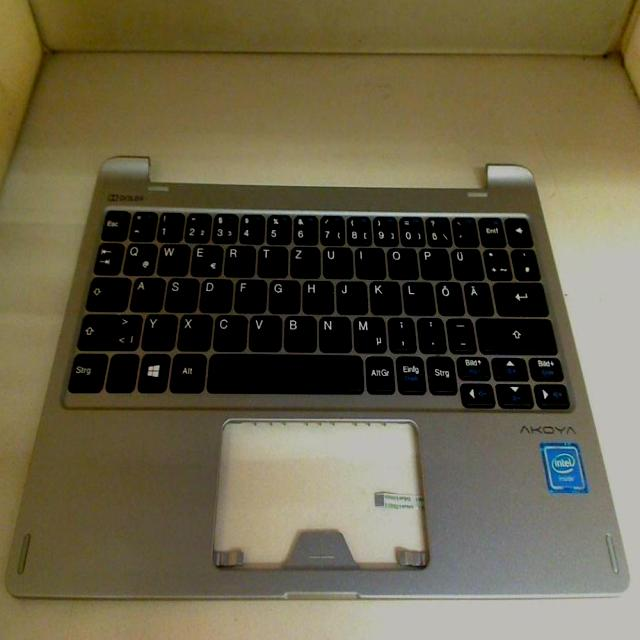0: (397, 214, 423, 244)
1: (156, 210, 182, 240)
2: (183, 209, 209, 241)
3: (211, 211, 236, 241)
4: (238, 212, 263, 242)
5: (265, 212, 290, 242)
6: (292, 213, 317, 243)
7: (319, 213, 343, 243)
8: (345, 213, 370, 243)
9: (371, 213, 396, 243)
a: (128, 274, 162, 308)
accent: (452, 214, 478, 244)
ae: (462, 280, 491, 312)
alt-left: (167, 350, 204, 391)
altgr-right: (363, 352, 393, 391)
b: (282, 313, 316, 349)
c: (211, 312, 246, 349)
caret: (128, 209, 155, 239)
comma: (386, 313, 414, 349)
d: (198, 276, 232, 310)
del: (504, 214, 533, 246)
e: (189, 241, 221, 273)
enter: (493, 279, 549, 313)
f: (233, 276, 265, 310)
g: (267, 277, 299, 311)
h: (301, 277, 333, 311)
hash: (512, 245, 541, 277)
i: (354, 245, 384, 275)
j: (335, 278, 367, 312)
k: (368, 279, 400, 311)
keyboard: (60, 204, 572, 412)
l: (401, 278, 433, 312)
less: (111, 310, 139, 347)
m: (352, 314, 384, 350)
minus: (444, 315, 476, 352)
n: (318, 313, 350, 350)
o: (385, 245, 417, 277)
oe: (434, 278, 462, 312)
p: (418, 245, 450, 277)
plus: (482, 246, 510, 278)
point: (416, 313, 444, 349)
q: (121, 239, 155, 273)
r: (223, 242, 255, 274)
s: (163, 275, 197, 309)
shift-left: (75, 310, 114, 347)
shift-lock: (84, 273, 128, 309)
shift-right: (474, 315, 557, 352)
space: (205, 350, 362, 391)
ss: (425, 214, 450, 244)
strg-left: (64, 349, 105, 391)
strg-right: (425, 353, 455, 392)
t: (257, 243, 287, 275)
tab: (92, 240, 120, 272)
u: (321, 244, 351, 276)
ue: (450, 246, 482, 278)
v: (247, 312, 281, 349)
w: (155, 241, 187, 273)
x: (175, 311, 210, 348)
y: (139, 311, 175, 348)
z: (289, 243, 319, 275)
